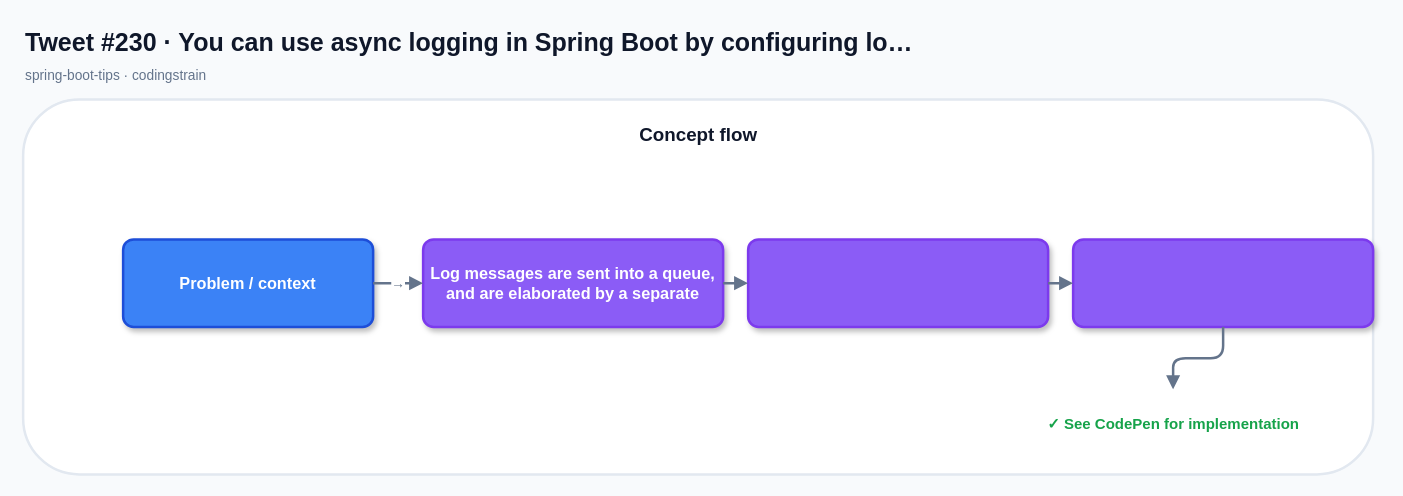
Image size: 1403x496. Some labels were removed from this diagram. Each missing label, with the centre of its shape:
"#SpringBoot #JavaDev" goes at (x=1223, y=284).
"This reduces I/O bottlenecks." goes at (x=898, y=284).
